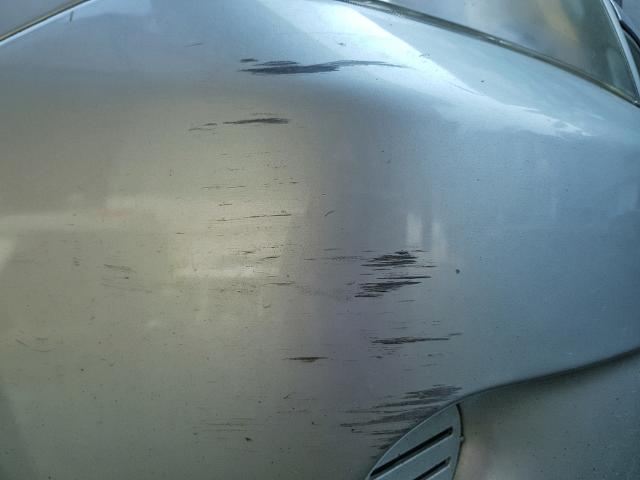scratch: (192, 45, 467, 456)
